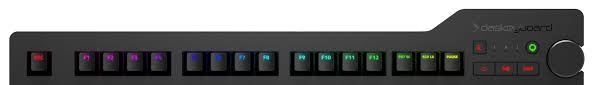keyboard: (1, 4, 586, 85)
